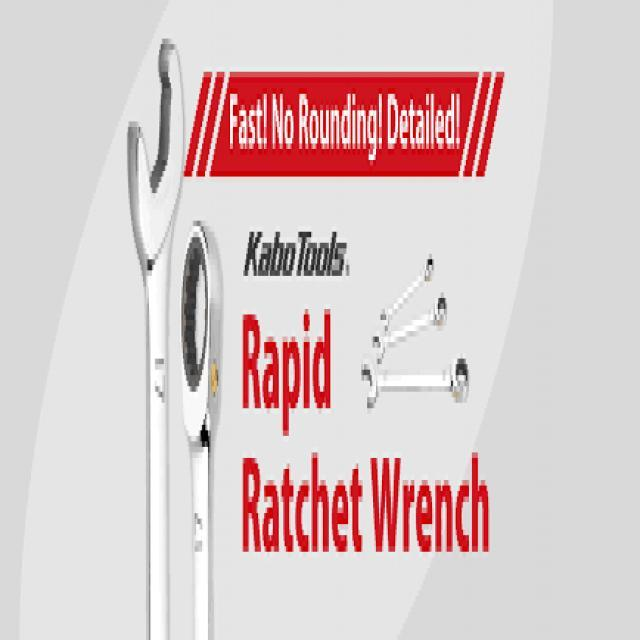wrench: (123, 11, 185, 640), (175, 178, 228, 640), (352, 346, 474, 430), (371, 287, 447, 362), (378, 248, 436, 326)
